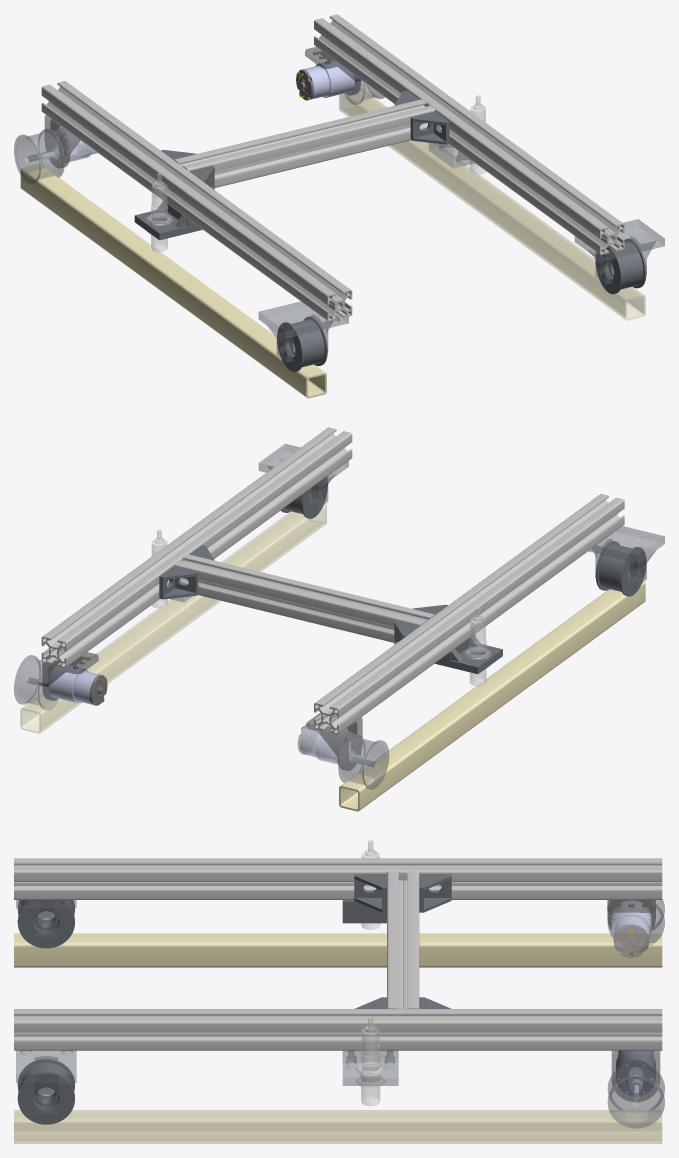
File: second-prototype.glb
The picture shows the model from 3 angles, top to bottom: view 1: azimuth 30°, elevation 25°; view 2: azimuth 150°, elevation 25°; view 3: azimuth 270°, elevation 25°; orthographic projection. The views are drawn at different scales.
Parts seen in each view (by area): view 1: RightMainBeam, LeftMainBeam, Square hollow section 25x25x2 EN10219 S235JRH001, Square hollow section 25x25x2 EN10219 S235JRH, MiddleBeam, IdlerBracket, IdleWheel, DriveWheel001, IdleWheel001, IdlerBracket001, SensorBracket, 90Joint002 (+6 smaller); view 2: RightMainBeam, LeftMainBeam, Square hollow section 25x25x2 EN10219 S235JRH001, MiddleBeam, Square hollow section 25x25x2 EN10219 S235JRH, IdleWheel, IdlerBracket, DriveWheel001, DriveWheel, SensorBracket, MM-JGB37 v4, IdlerBracket001 (+6 smaller); view 3: LeftMainBeam, RightMainBeam, Square hollow section 25x25x2 EN10219 S235JRH, Square hollow section 25x25x2 EN10219 S235JRH001, MiddleBeam, DriveWheel, IdleWheel001, IdlerBracket001, IdleWheel, SensorBracket001, MM-JGB37 v001, BALLUFF BES 516-326-G-BO-C-PU-03_1 (+10 smaller).
Part boxes in pixels (x1,y1,x2,y2): RightMainBeam: [41, 81, 352, 321]; LeftMainBeam: [314, 14, 624, 254]; Square hollow section 25x25x2 EN10219 S235JRH001: [20, 164, 326, 398]; Square hollow section 25x25x2 EN10219 S235JRH: [339, 88, 645, 320]; MiddleBeam: [174, 99, 435, 187]; IdlerBracket: [258, 301, 348, 362]; IdleWheel: [277, 316, 327, 371]; DriveWheel001: [14, 128, 64, 184]; IdleWheel001: [595, 238, 646, 294]; IdlerBracket001: [574, 219, 664, 284]; SensorBracket: [134, 201, 202, 240]; 90Joint002: [410, 111, 449, 144]; RightMainBeam: [314, 494, 624, 734]; LeftMainBeam: [41, 427, 352, 667]; Square hollow section 25x25x2 EN10219 S235JRH001: [339, 580, 645, 811]; MiddleBeam: [173, 554, 434, 642]; Square hollow section 25x25x2 EN10219 S235JRH: [20, 503, 326, 733]; IdleWheel: [595, 541, 646, 596]; IdlerBracket: [588, 526, 664, 586]; DriveWheel001: [338, 734, 389, 789]; DriveWheel: [14, 655, 59, 710]; SensorBracket: [435, 634, 502, 674]; MM-JGB37 v4: [306, 713, 362, 770]; IdlerBracket001: [258, 443, 348, 509]; LeftMainBeam: [14, 1009, 662, 1050]; RightMainBeam: [14, 858, 662, 899]; Square hollow section 25x25x2 EN10219 S235JRH: [14, 1110, 662, 1143]; Square hollow section 25x25x2 EN10219 S235JRH001: [14, 933, 662, 967]; MiddleBeam: [387, 871, 419, 1008]; DriveWheel: [607, 1062, 664, 1128]; IdleWheel001: [17, 1058, 74, 1124]; IdlerBracket001: [16, 1050, 76, 1113]; IdleWheel: [17, 900, 74, 948]; SensorBracket001: [342, 1050, 398, 1085]; MM-JGB37 v001: [611, 1050, 660, 1101]; BALLUFF BES 516-326-G-BO-C-PU-03_1: [361, 1016, 380, 1106].
Bounding box in the file's own units: 0.46 × 0.1242 × 0.6024.
